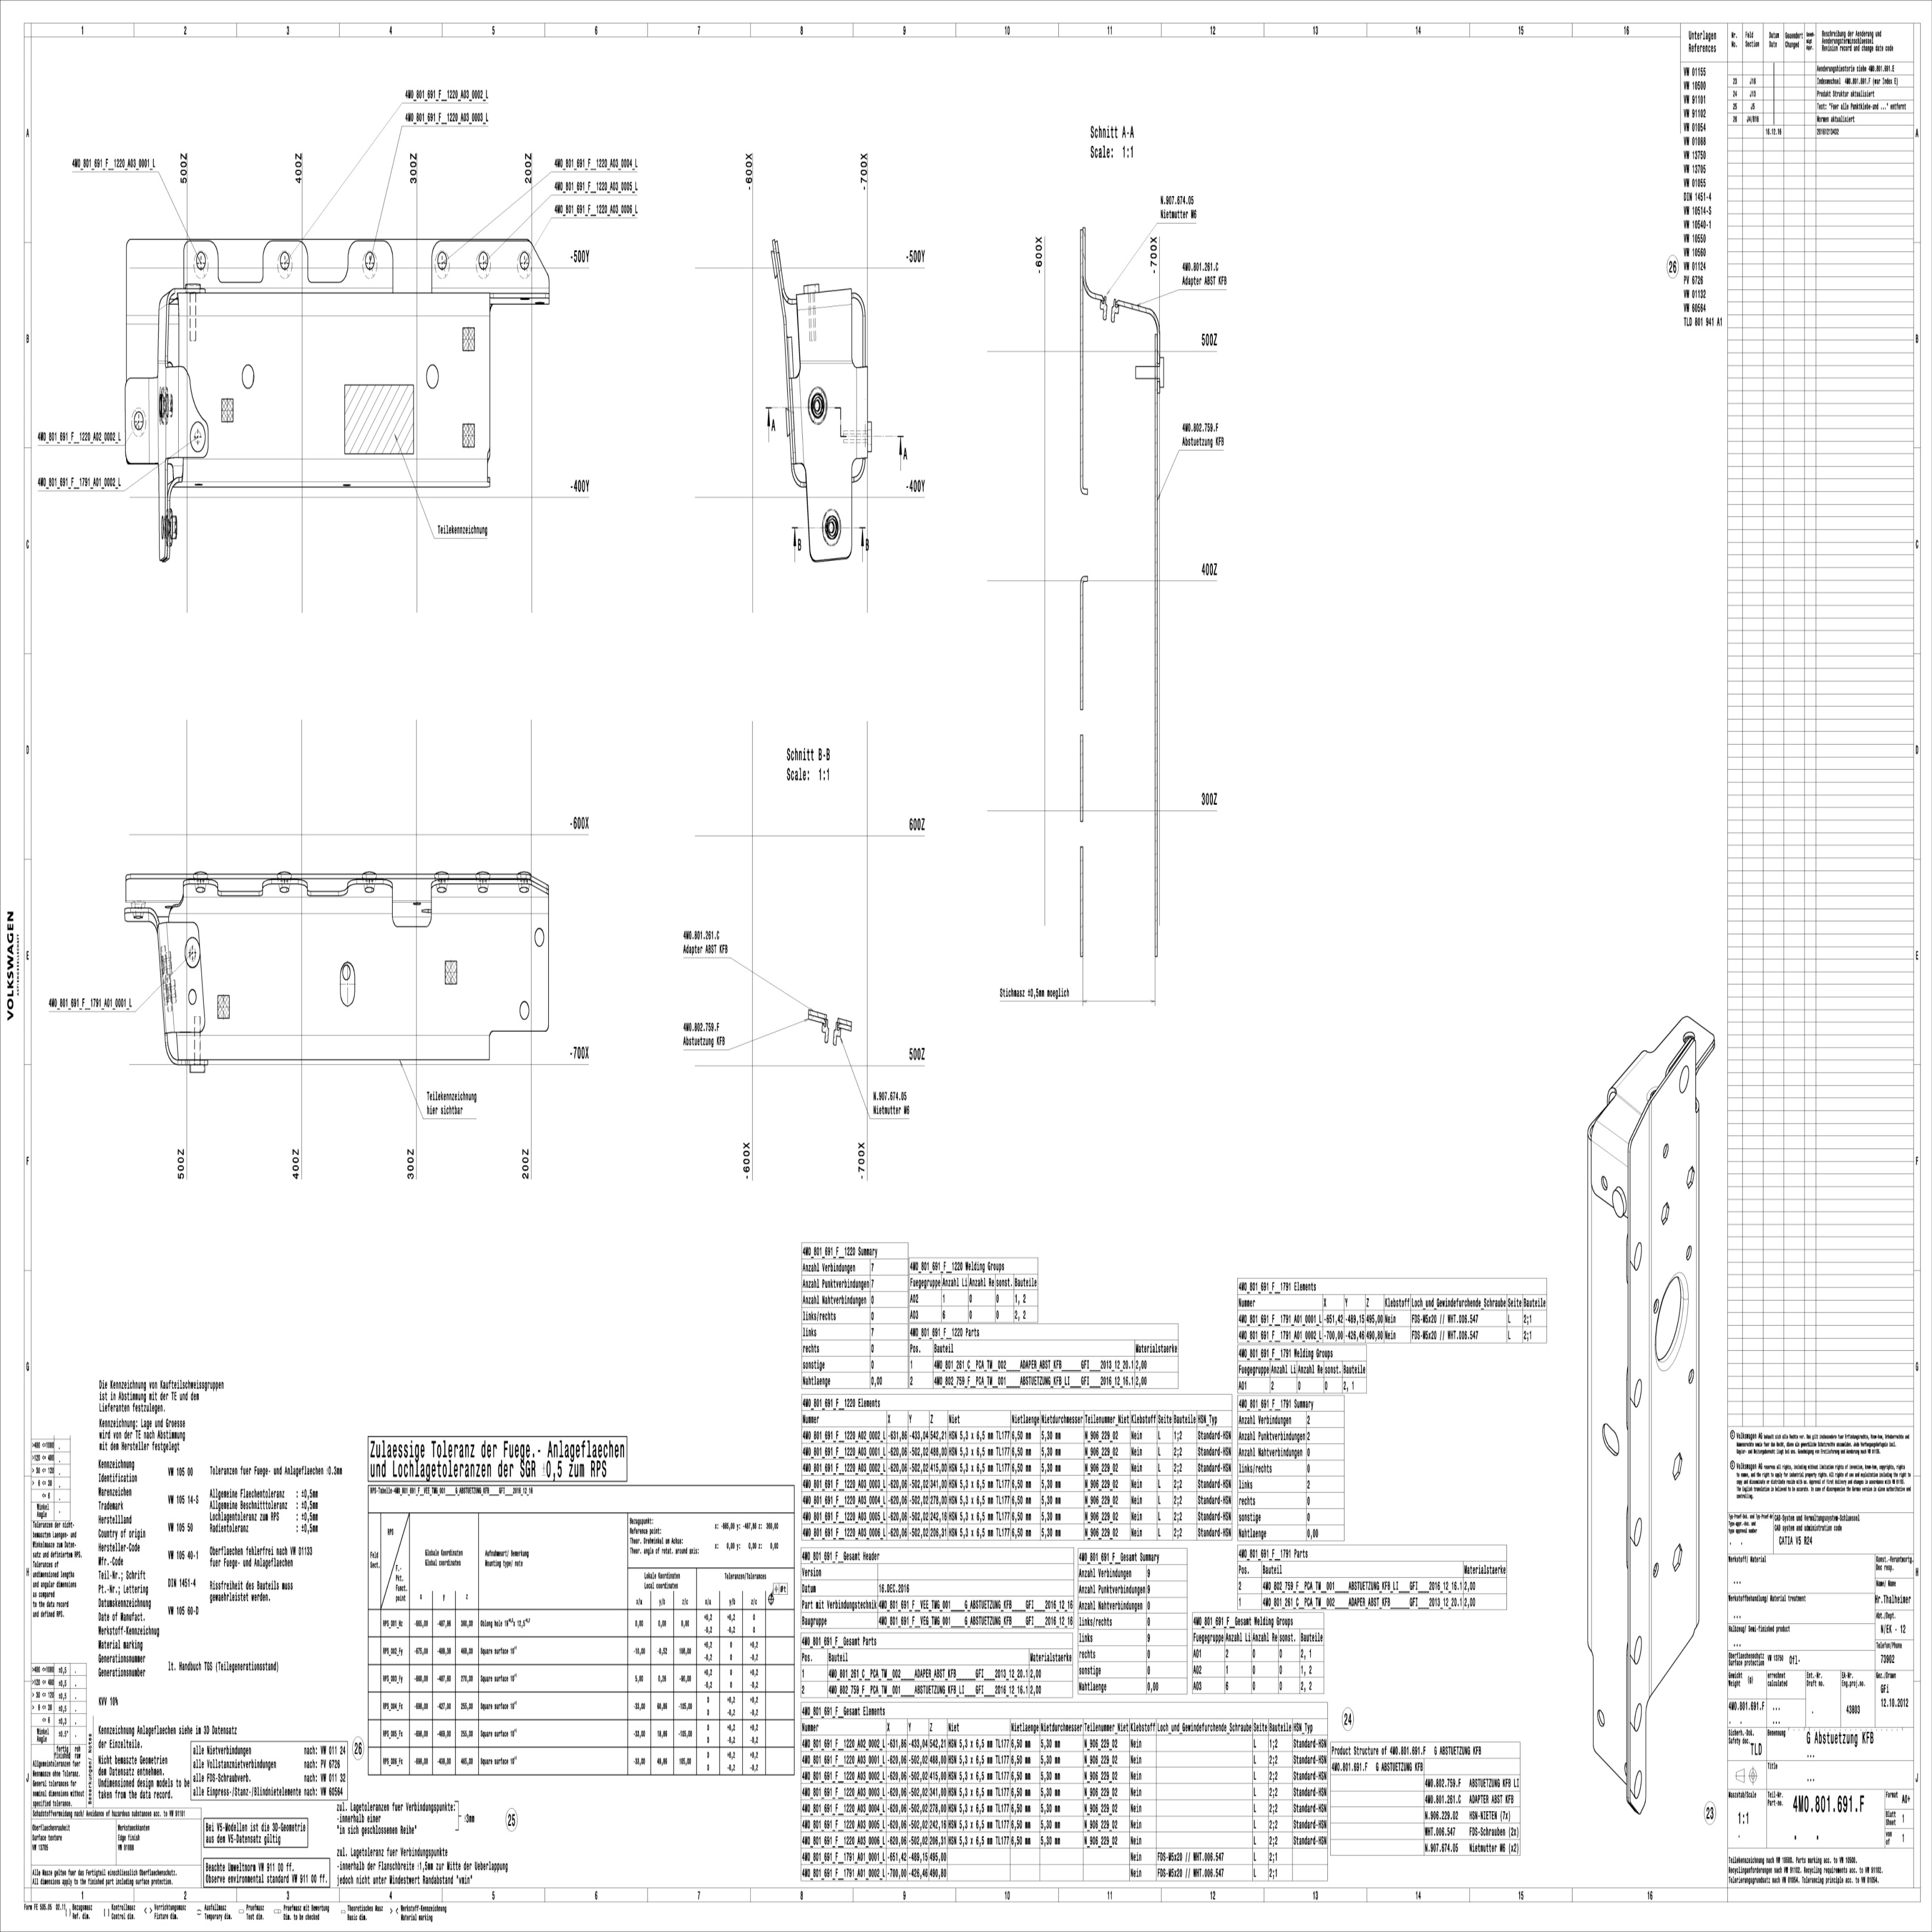BendingEdge: (1580, 1115, 1642, 1169), (1647, 1106, 1652, 1697), (1697, 1115, 1700, 1626), (801, 359, 853, 364)
InnerContour: (338, 959, 359, 1010), (1598, 1415, 1621, 1461), (425, 363, 441, 391), (241, 361, 257, 389), (1631, 1240, 1645, 1270), (1631, 1376, 1644, 1408), (1633, 1700, 1644, 1734), (533, 925, 547, 950), (1677, 1065, 1690, 1093), (361, 885, 380, 902), (515, 1001, 533, 1021), (1592, 1707, 1606, 1730), (131, 410, 147, 430), (195, 248, 207, 272), (518, 248, 531, 272), (1633, 1769, 1644, 1798), (1635, 1514, 1644, 1548), (1635, 1633, 1644, 1665), (188, 985, 200, 1007), (478, 251, 490, 272), (274, 885, 292, 899), (476, 881, 490, 899), (515, 883, 533, 897), (435, 249, 449, 267), (280, 251, 290, 274), (1684, 1364, 1695, 1387), (1683, 1242, 1693, 1263), (1596, 1173, 1608, 1191), (363, 253, 377, 267), (193, 883, 211, 893), (433, 885, 451, 895), (1651, 1295, 1660, 1316), (1652, 1560, 1661, 1582), (1660, 1145, 1670, 1159)
InnerContourAngular: (1667, 1451, 1684, 1483), (1672, 1541, 1684, 1571), (1686, 1164, 1697, 1194), (1661, 1200, 1672, 1224)
Notch: (384, 878, 437, 927), (214, 239, 269, 283), (301, 239, 354, 283), (301, 874, 357, 899), (212, 874, 267, 899)
ThroughHole: (1637, 1261, 1714, 1378)
